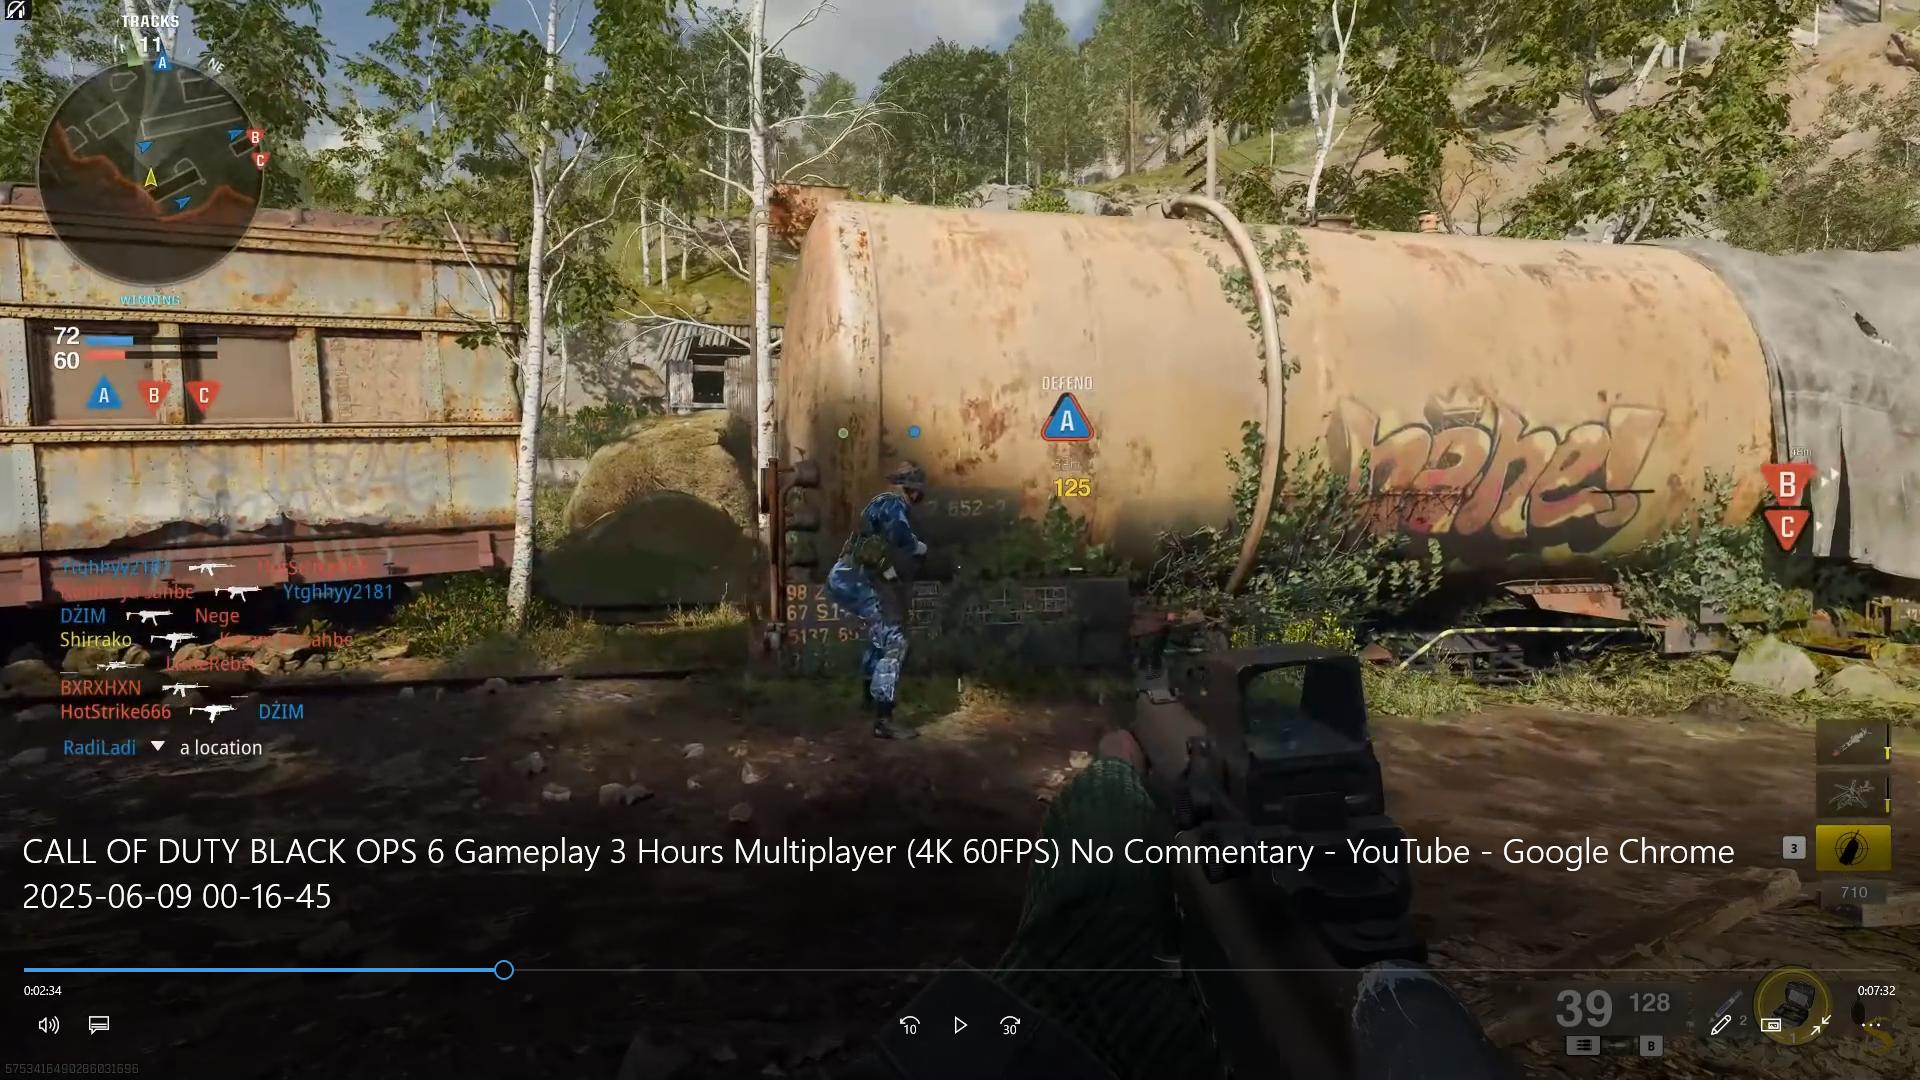Enemy: (841, 454, 936, 748)
